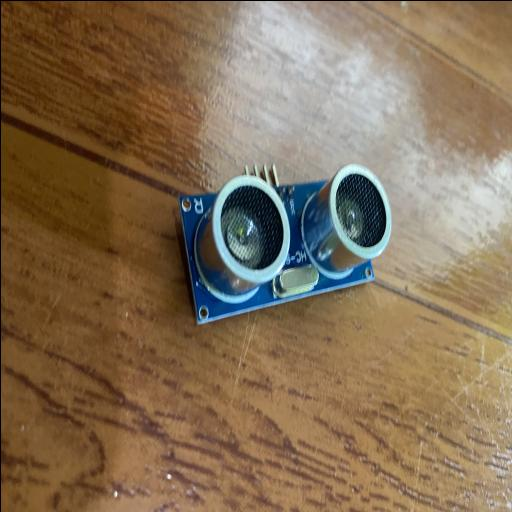Ultrasonic Sensor: (178, 160, 392, 326)
